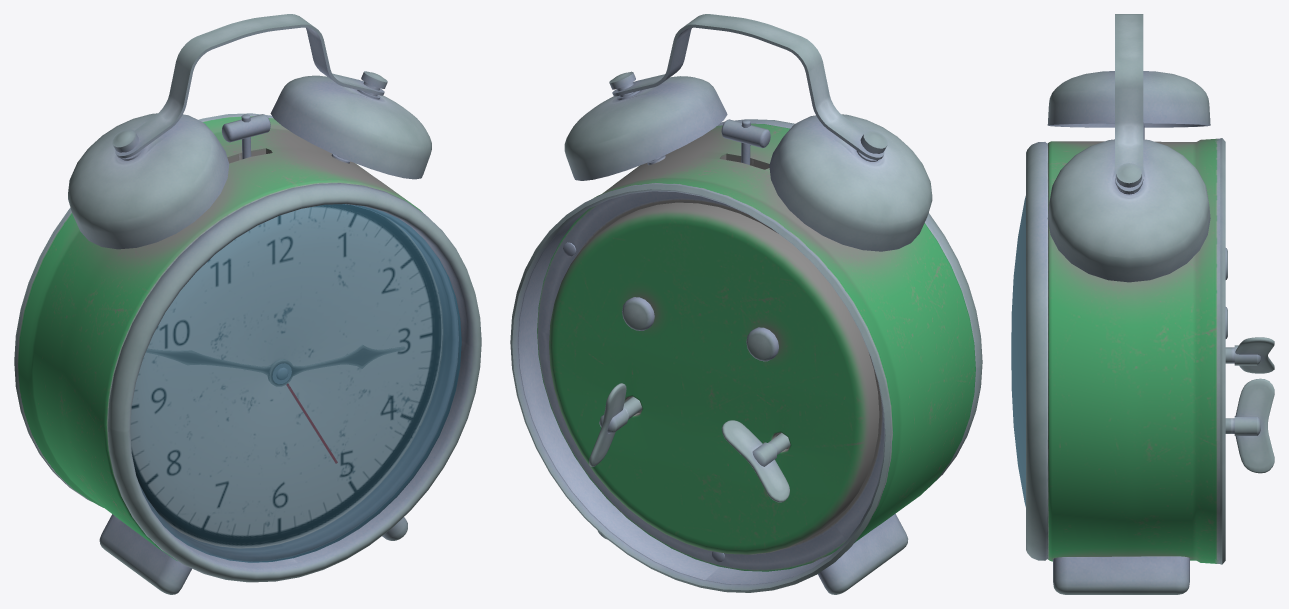
Rendered from readabilityanalysis-alarmclock.glb.
3 renders of one model, left to right at view 1: azimuth 30°, elevation 25°; view 2: azimuth 150°, elevation 25°; view 3: azimuth 270°, elevation 25°, orthographic. The views are drawn at different scales.
Parts seen in each view (by area): view 1: Glass, Alarm_Clock.013, Alarm_Clock.012, Alarm_Clock.003, Alarm_Clock.006, Alarm_Clock.007, Alarm_Clock.020, Alarm_Clock.016, Hour_Hand, Minute_Hand, Alarm_Clock.019; view 2: Alarm_Clock.021, Alarm_Clock.012, Alarm_Clock.006, Alarm_Clock.007, Alarm_Clock.020, Alarm_Clock.016, Alarm_Clock.003, Key.001, Key.003, Alarm_Clock.019, Alarm_Clock.004, Alarm_Clock.005 (+2 smaller); view 3: Alarm_Clock.012, Alarm_Clock.007, Alarm_Clock.003, Alarm_Clock.006, Alarm_Clock.015, Alarm_Clock.020, Glass, Key.003, Key.001, Key.002, Alarm_Clock.010, Key.
Boxes of the visible parts, bbox=[...] form: Glass: bbox=[130, 204, 461, 562]; Alarm_Clock.013: bbox=[130, 204, 458, 560]; Alarm_Clock.012: bbox=[14, 113, 422, 560]; Alarm_Clock.003: bbox=[107, 183, 481, 582]; Alarm_Clock.006: bbox=[68, 113, 229, 249]; Alarm_Clock.007: bbox=[270, 75, 431, 179]; Alarm_Clock.020: bbox=[115, 14, 384, 158]; Alarm_Clock.016: bbox=[99, 514, 191, 594]; Hour_Hand: bbox=[268, 344, 405, 386]; Minute_Hand: bbox=[146, 349, 285, 381]; Alarm_Clock.019: bbox=[222, 114, 270, 142]; Alarm_Clock.021: bbox=[537, 191, 884, 571]; Alarm_Clock.012: bbox=[510, 123, 975, 592]; Alarm_Clock.006: bbox=[769, 114, 932, 251]; Alarm_Clock.007: bbox=[564, 76, 727, 180]; Alarm_Clock.020: bbox=[612, 14, 884, 159]; Alarm_Clock.016: bbox=[817, 514, 908, 594]; Alarm_Clock.003: bbox=[717, 119, 982, 490]; Key.001: bbox=[721, 420, 789, 502]; Key.003: bbox=[589, 383, 626, 466]; Alarm_Clock.019: bbox=[721, 119, 770, 147]; Alarm_Clock.004: bbox=[746, 327, 778, 361]; Alarm_Clock.005: bbox=[622, 297, 654, 330]; Alarm_Clock.012: bbox=[1048, 138, 1225, 564]; Alarm_Clock.007: bbox=[1047, 139, 1210, 282]; Alarm_Clock.003: bbox=[1026, 142, 1047, 560]; Alarm_Clock.006: bbox=[1047, 71, 1210, 127]; Alarm_Clock.015: bbox=[1053, 556, 1189, 594]; Alarm_Clock.020: bbox=[1115, 14, 1143, 193]; Glass: bbox=[1011, 196, 1025, 506]; Key.003: bbox=[1235, 378, 1274, 473]; Key.001: bbox=[1235, 337, 1274, 373]; Key.002: bbox=[1225, 416, 1260, 435]; Alarm_Clock.010: bbox=[1116, 163, 1141, 194]; Key: bbox=[1225, 345, 1260, 365].
Size of the model in its own units: 0.1317 by 0.1742 by 0.0812.
2 materials, 2 textured.
